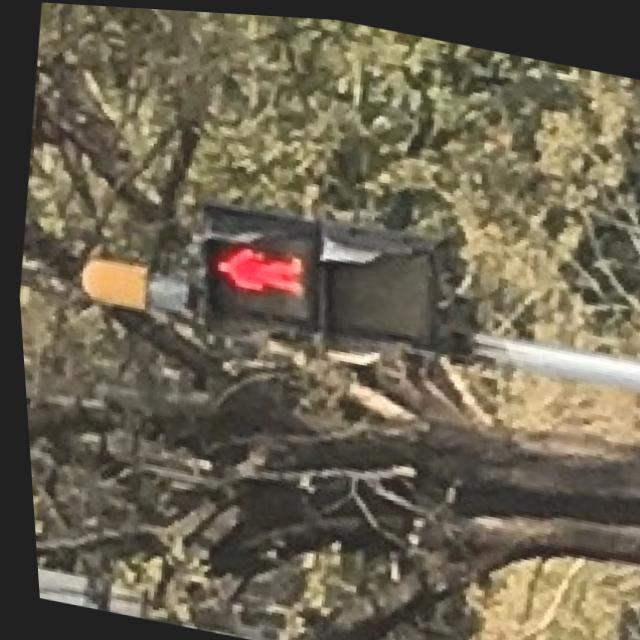red_light: (183, 208, 320, 312)
